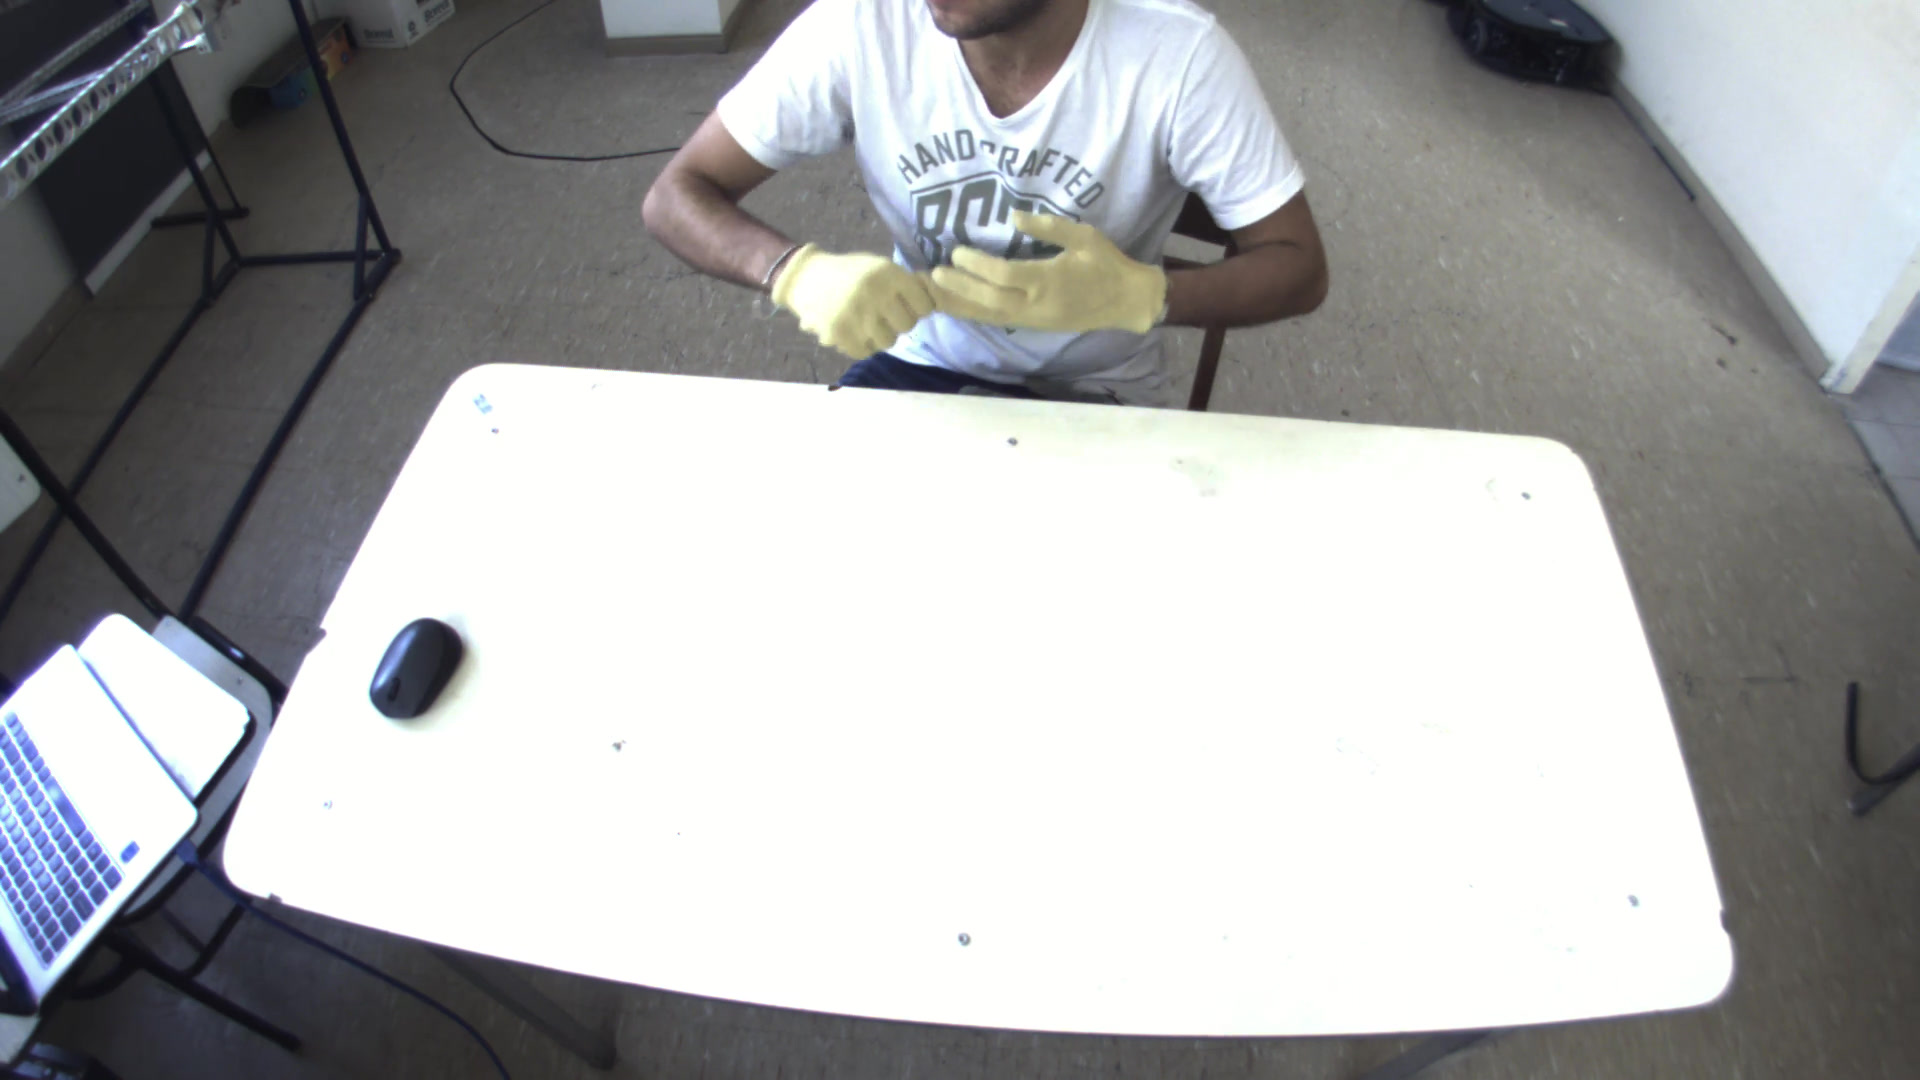hand: (924, 191, 1184, 336), (756, 224, 934, 359)
